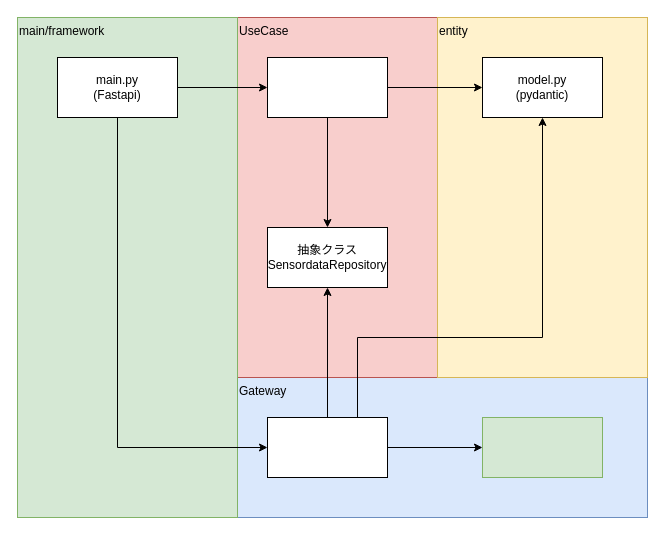
The diagram is 665 pixels wide and 535 high, and some of its shapes have lost their labels. The centre of each missing label's shape, as x and y in pixels:
"mongoDB (external)" goes at [542,447].
"mongodb_repo.py" goes at [327,447].
"sensordata.py" goes at [327,87].
